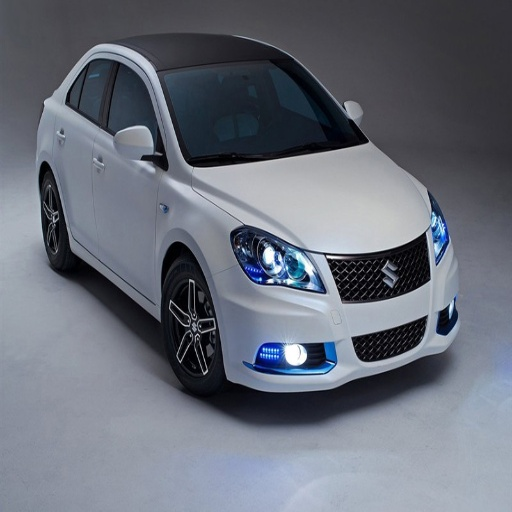front_bumper: (212, 232, 457, 392)
front_right_door: (92, 53, 165, 298)
front_right_light: (231, 224, 325, 291)
hood: (191, 144, 433, 251)
